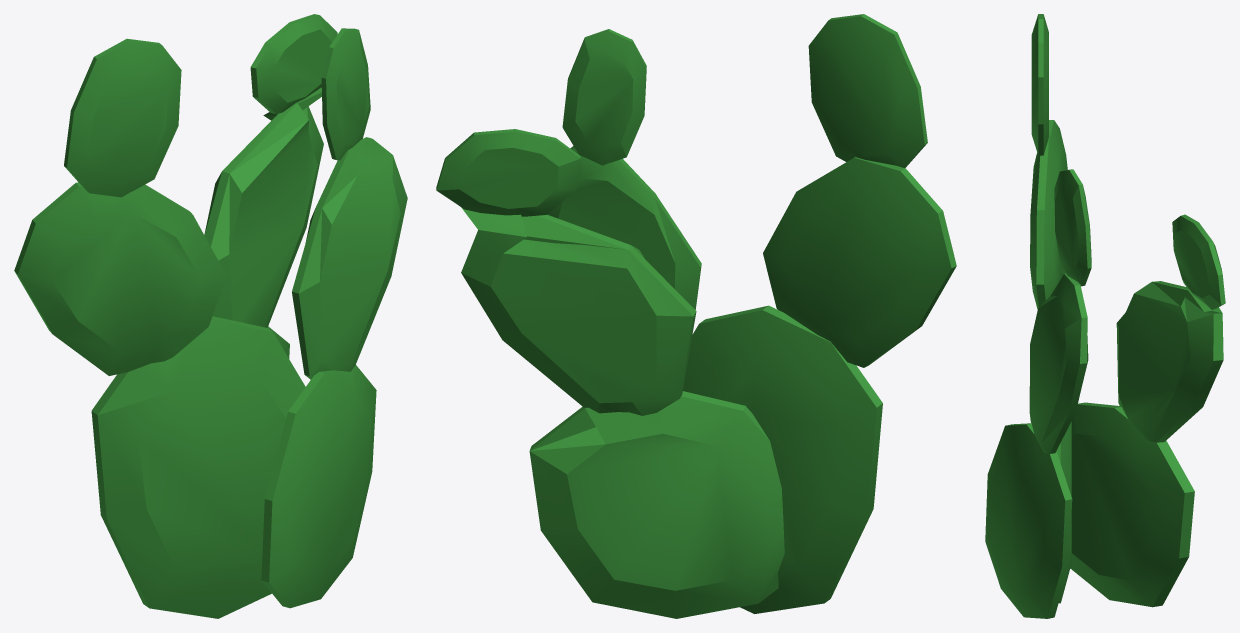
File: Vegetation_Cactus_10.fbx
The picture shows the model from 3 angles, left to right: view 1: azimuth 30°, elevation 25°; view 2: azimuth 150°, elevation 25°; view 3: azimuth 270°, elevation 25°; orthographic projection. The views are drawn at different scales.
Parts seen in each view (by area): view 1: Vegetation_Cactus_10; view 2: Vegetation_Cactus_10; view 3: Vegetation_Cactus_10.
Part boxes in pixels (x1,y1,x2,y2): Vegetation_Cactus_10: (14,14,407,618); Vegetation_Cactus_10: (436,14,956,618); Vegetation_Cactus_10: (985,14,1225,618).
Bounding box in the file's own units: 52.66 × 72.72 × 29.99.
